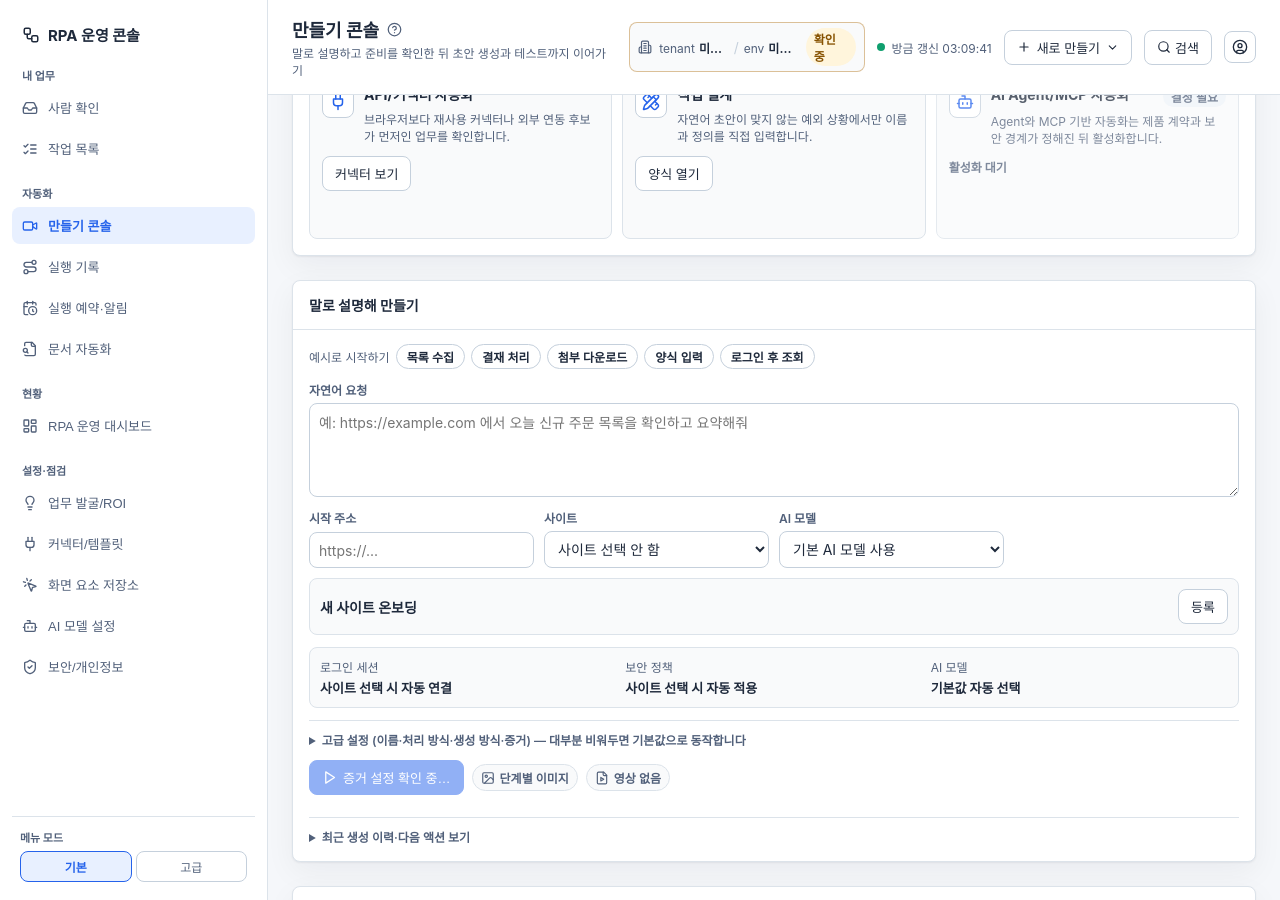
Test: PromptScenarioGenerator correction run › invalid execution variables block generate request: array
(page scrolled)
Type "Summarize today's orders" into the text box labelled "자연어 요청" at (774, 450), box [309,403,1239,497]
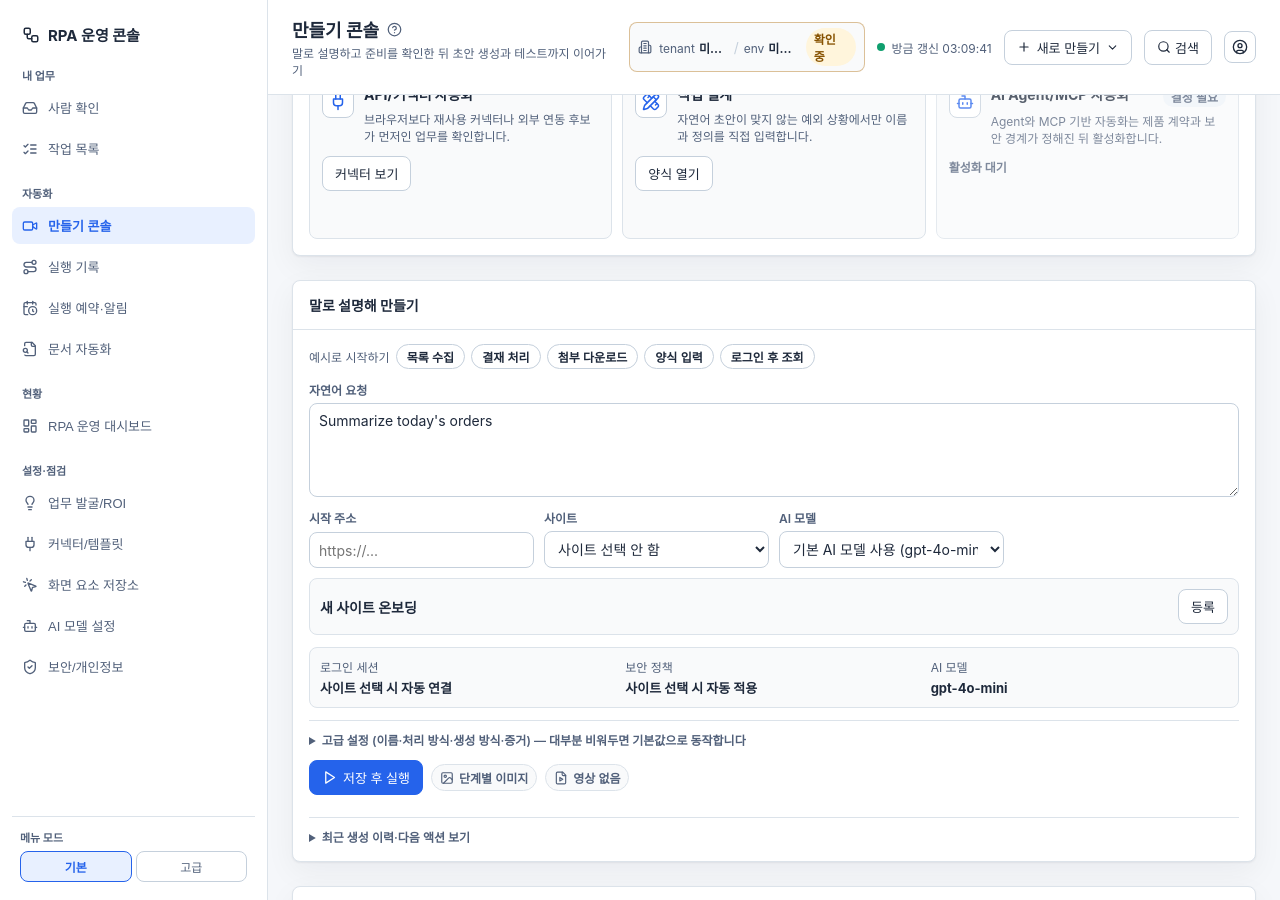
Click the heading "고급 설정 (이름·처리 방식·생성 방식·증거) — 대부분 비워두면 기본값으로 동작합니다" at (534, 740), box [322,733,746,748]
(page scrolled)
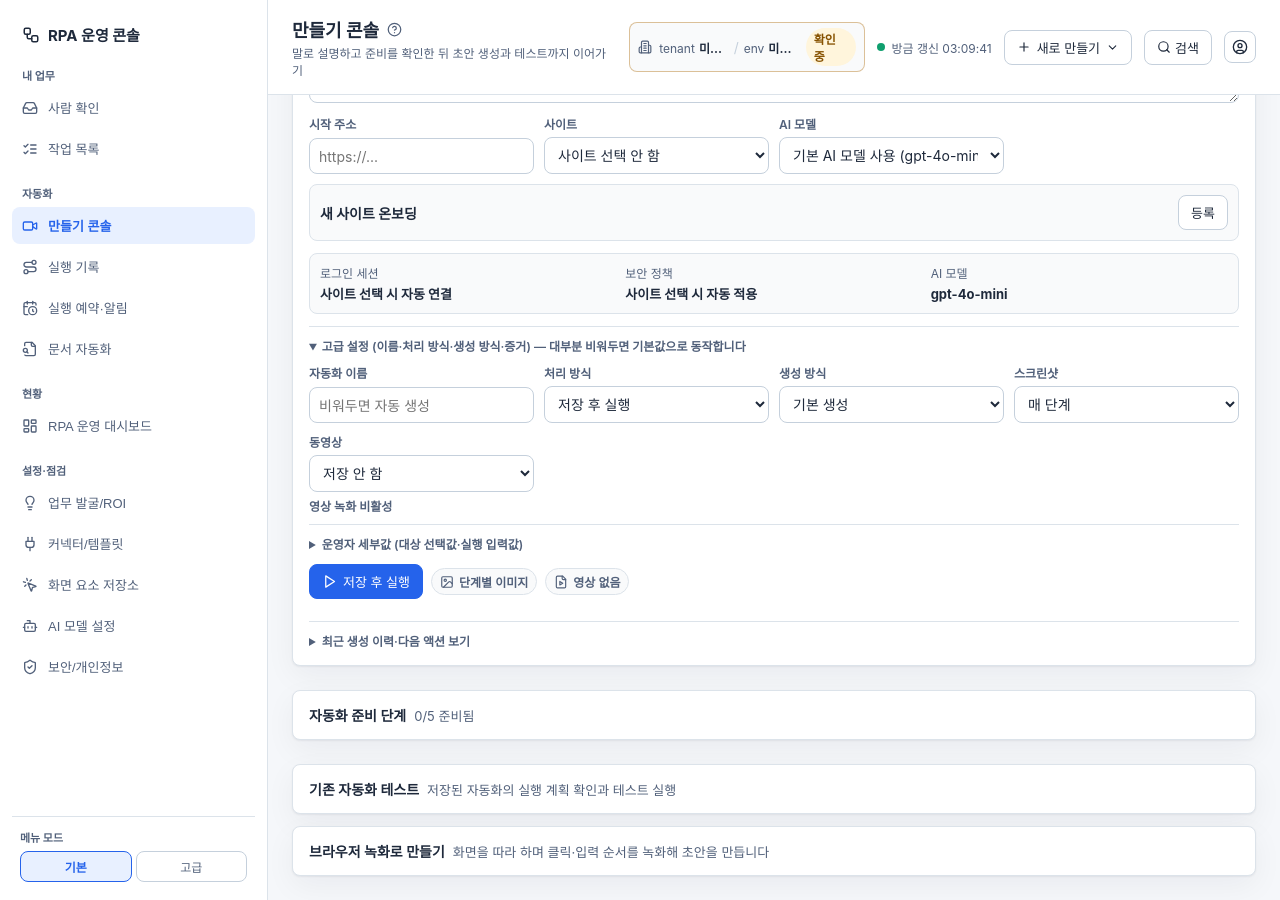
Click the heading "운영자 세부값 (대상 선택값·실행 입력값)" at (422, 544), box [322,537,523,552]
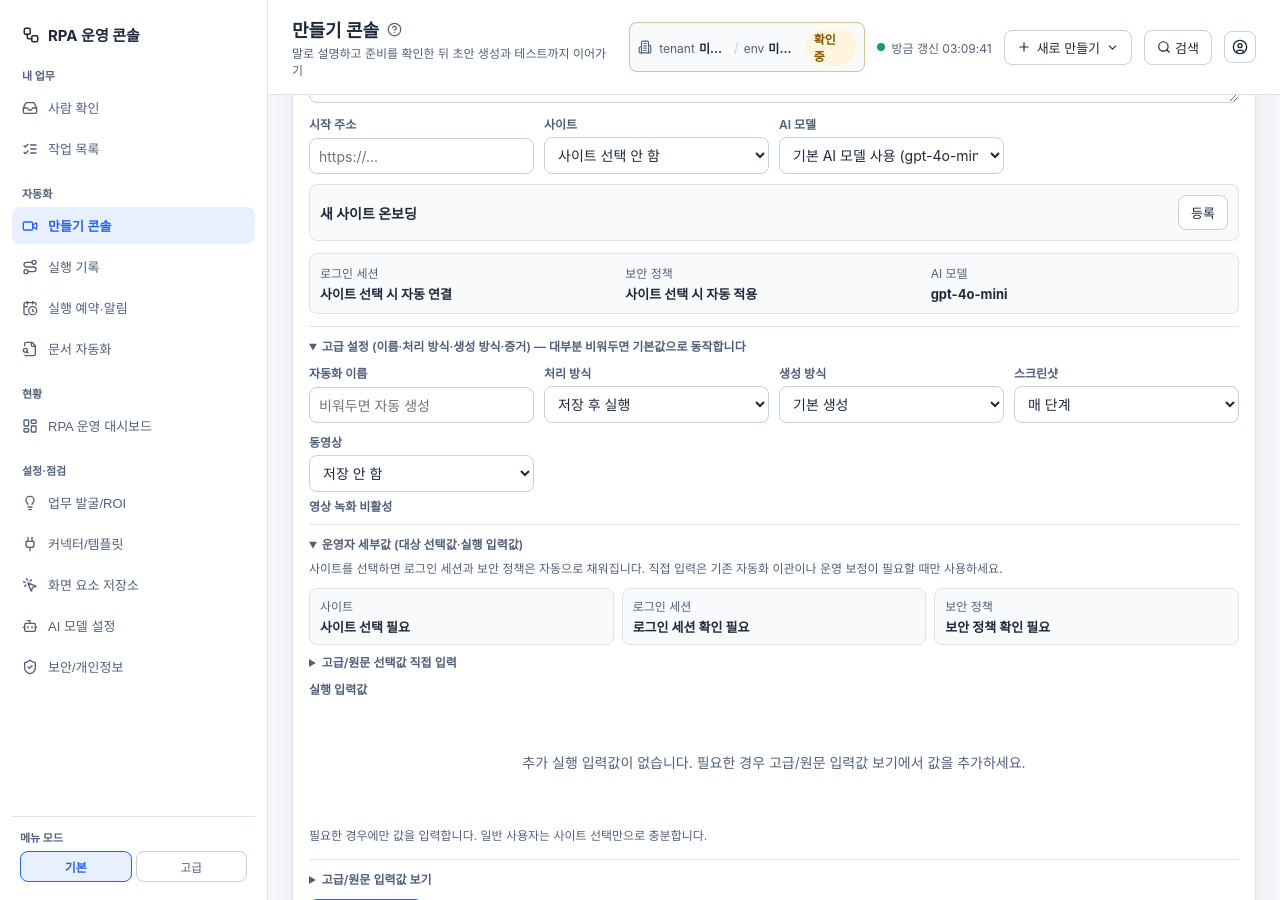
Click the heading "고급/원문 입력값 보기" at (377, 880), box [322,872,432,887]
(page scrolled)
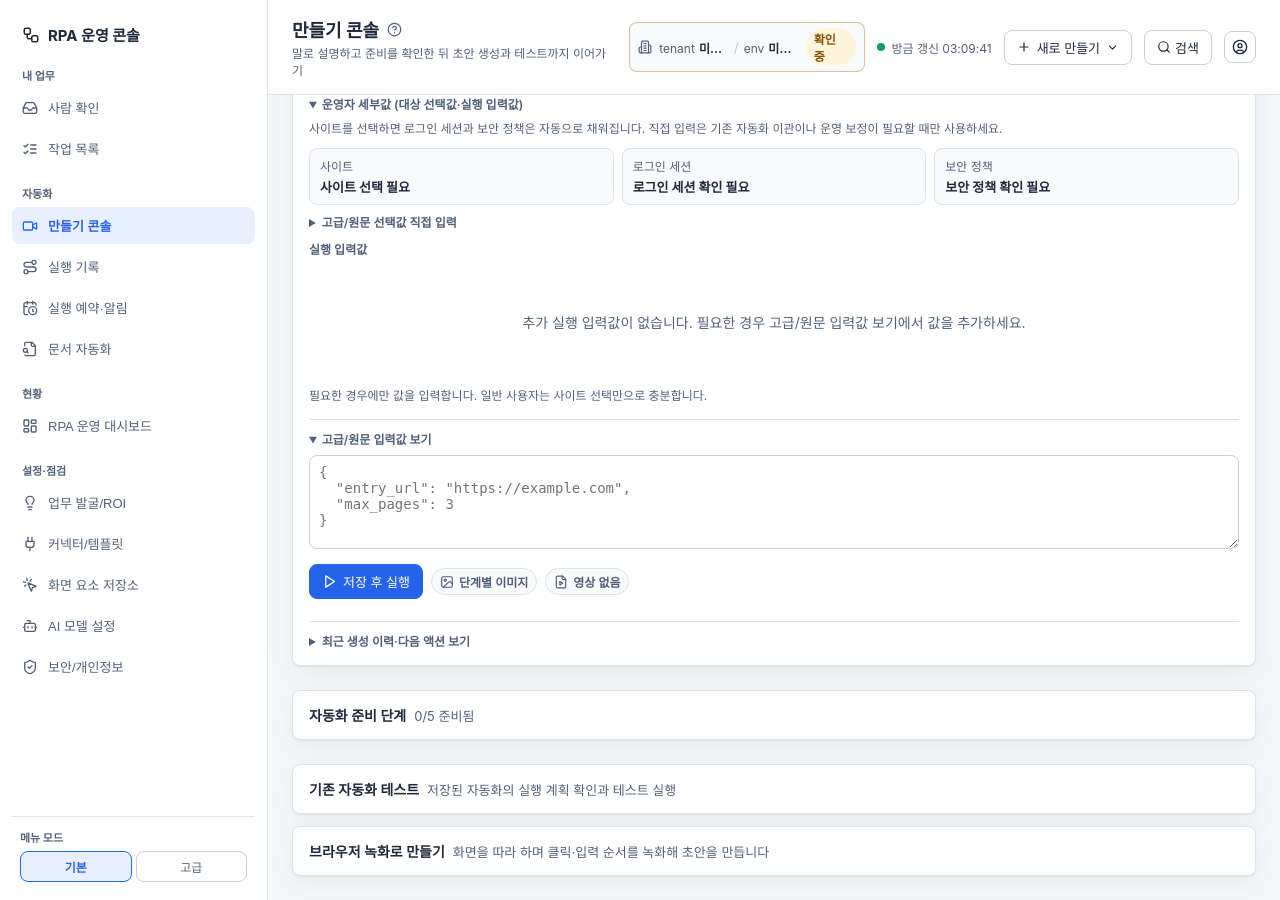
Type "[]" into the text box named "고급/원문 입력값" at (774, 502), box [309,455,1239,549]
(page scrolled)
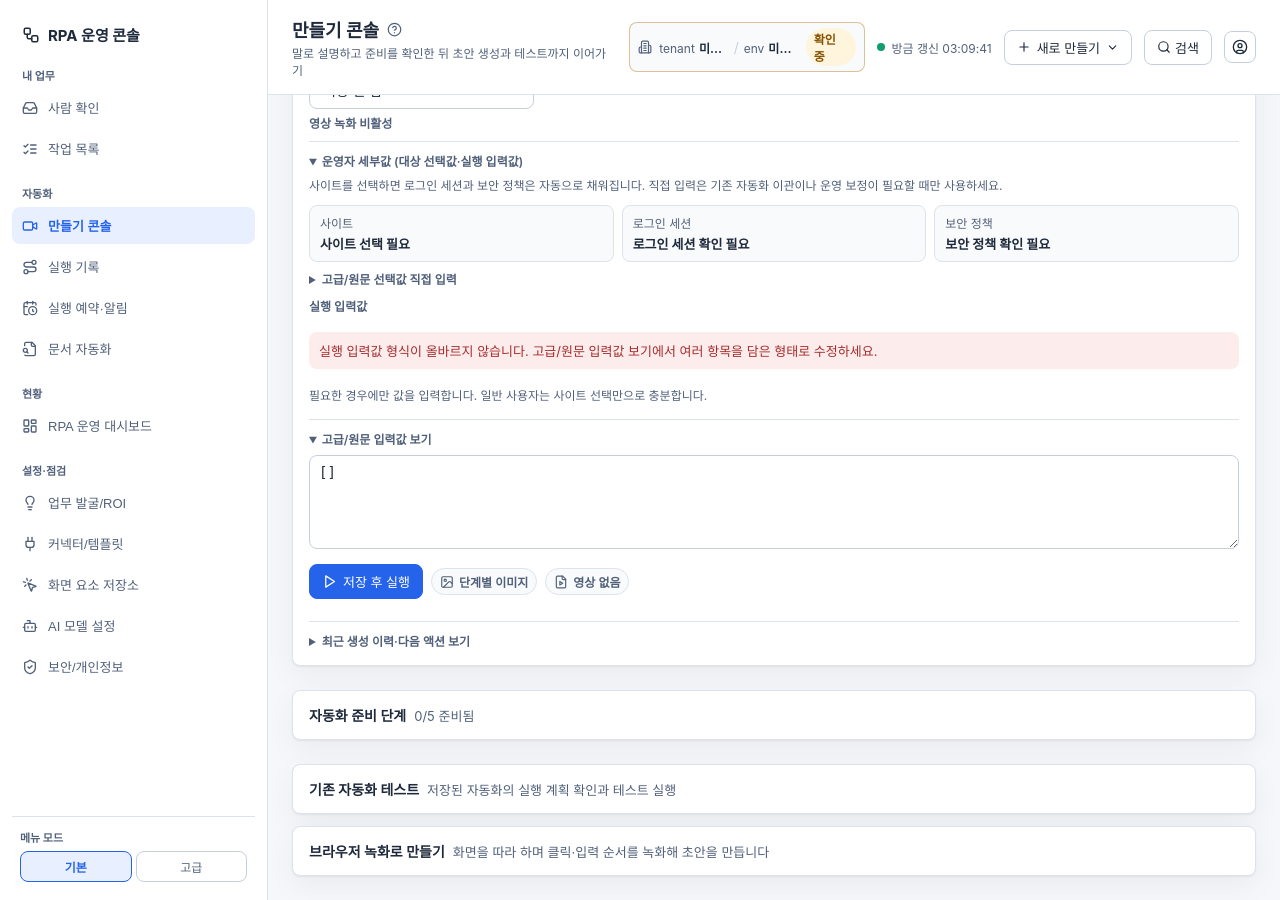
Click the button "저장 후 실행" at (366, 582), box [309,564,423,599]
(page scrolled)
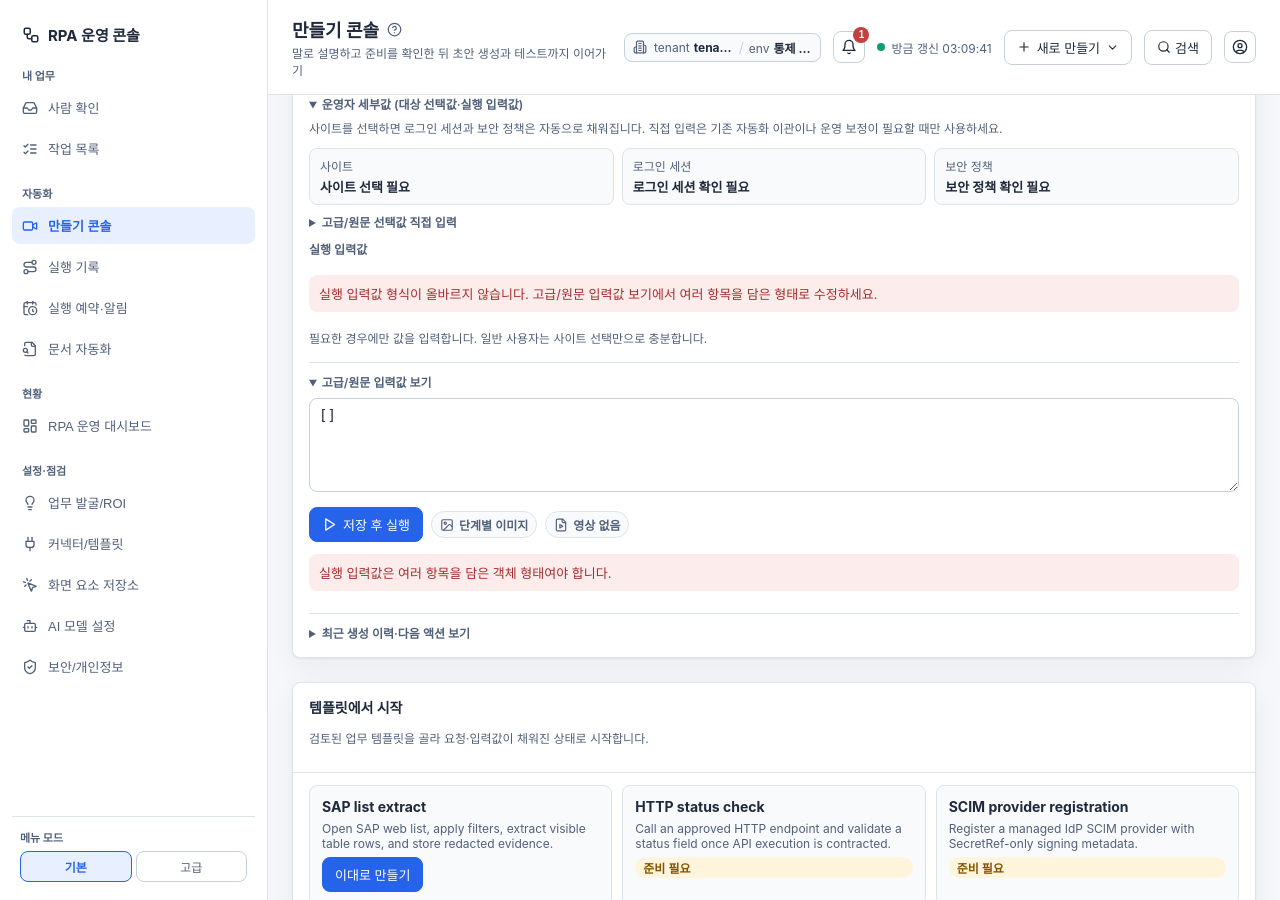
Expected: the message "실행 입력값은 여러 항목을 담은 객체 형태여야 합니다." is shown, [309,554,1239,591]
